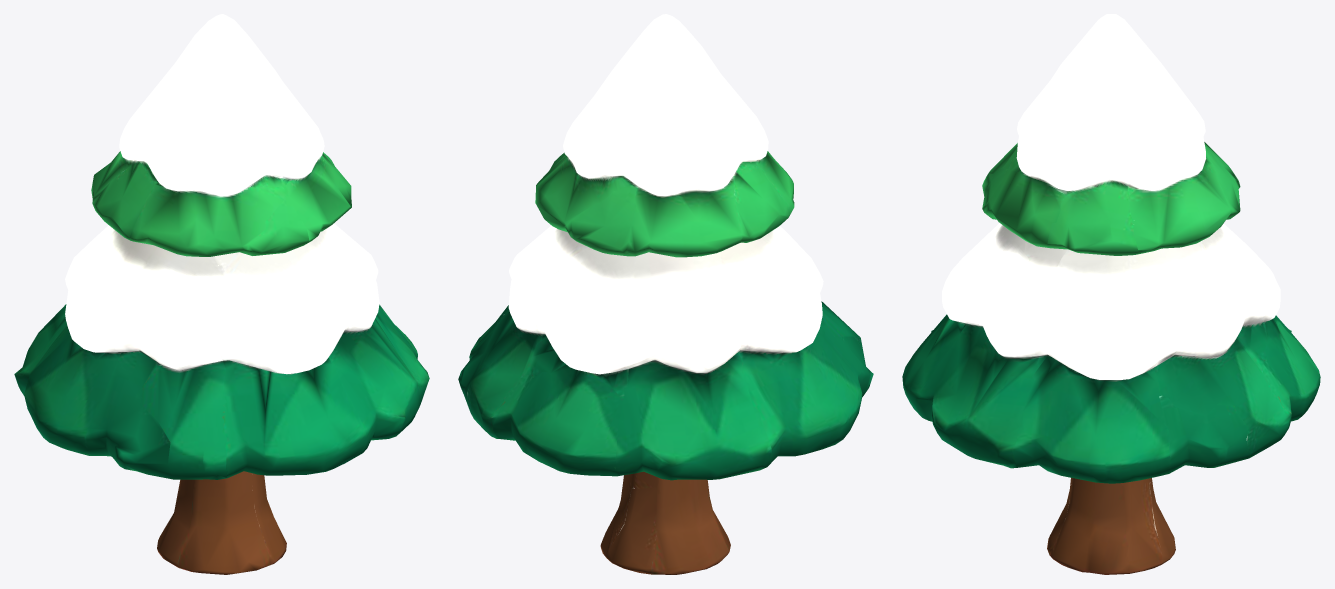
File: sapin-neige.glb
3 renders of one model, left to right at view 1: azimuth 30°, elevation 25°; view 2: azimuth 150°, elevation 25°; view 3: azimuth 270°, elevation 25°, orthographic.
Visible parts, largest first — view 1: mesh_node; view 2: mesh_node; view 3: mesh_node.
Part boxes in pixels (x1,y1,x2,y2): mesh_node: [14, 14, 429, 574]; mesh_node: [458, 14, 873, 574]; mesh_node: [902, 14, 1320, 574].
Bounding box in the file's own units: 1.34 × 1.9 × 1.34.
Materials: 1 (1 with a texture image).
